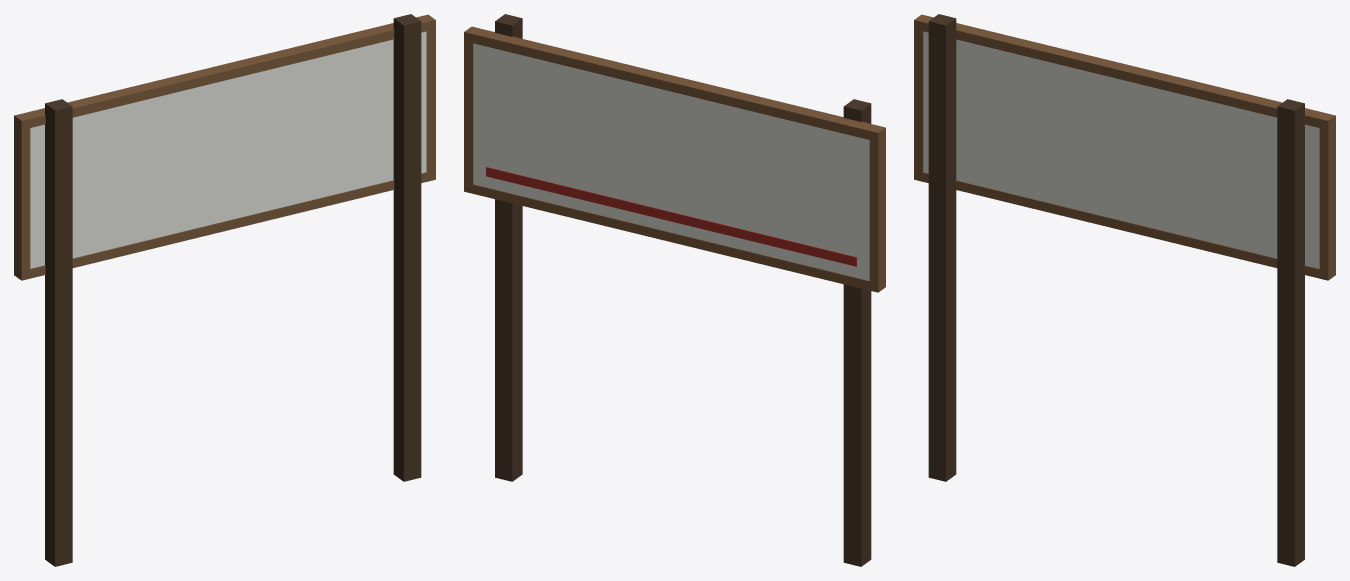
Rendered from panneau_triage.glb.
The picture shows the model from 3 angles, left to right: view 1: azimuth 30°, elevation 25°; view 2: azimuth 150°, elevation 25°; view 3: azimuth 330°, elevation 25°; orthographic projection.
Parts seen in each view (by area): view 1: board, posts, frame_h, frame_v; view 2: board, posts, frame_h, frame_v, stripe; view 3: board, posts, frame_h, frame_v.
Boxes of the visible parts, x1,y1,x2,y2 form: board: (30, 31, 426, 268); posts: (45, 14, 421, 566); frame_h: (14, 14, 435, 280); frame_v: (14, 29, 435, 271); board: (473, 43, 869, 280); posts: (495, 14, 871, 566); frame_h: (464, 26, 885, 292); frame_v: (464, 41, 885, 283); stripe: (486, 167, 856, 266); board: (923, 31, 1319, 268); posts: (928, 14, 1304, 566); frame_h: (914, 14, 1335, 280); frame_v: (914, 29, 1335, 271).
Size of the model in its own units: 1.9 by 2 by 0.135.
4 materials, 4 textured.
